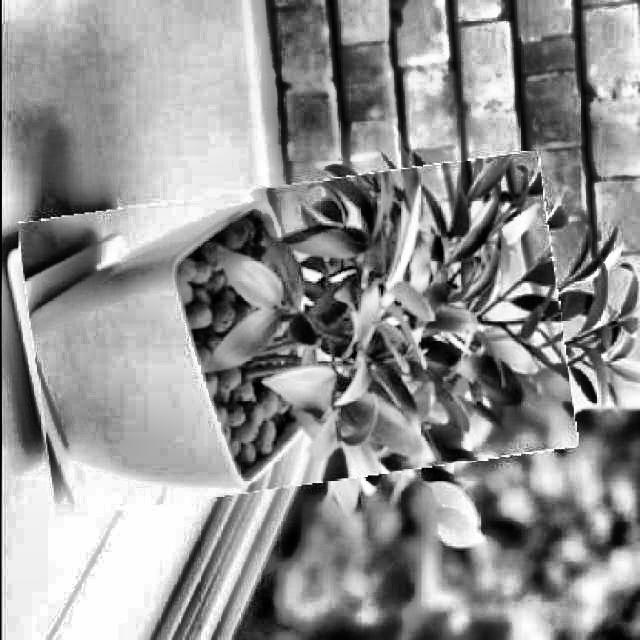plants: (23, 168, 568, 501)
